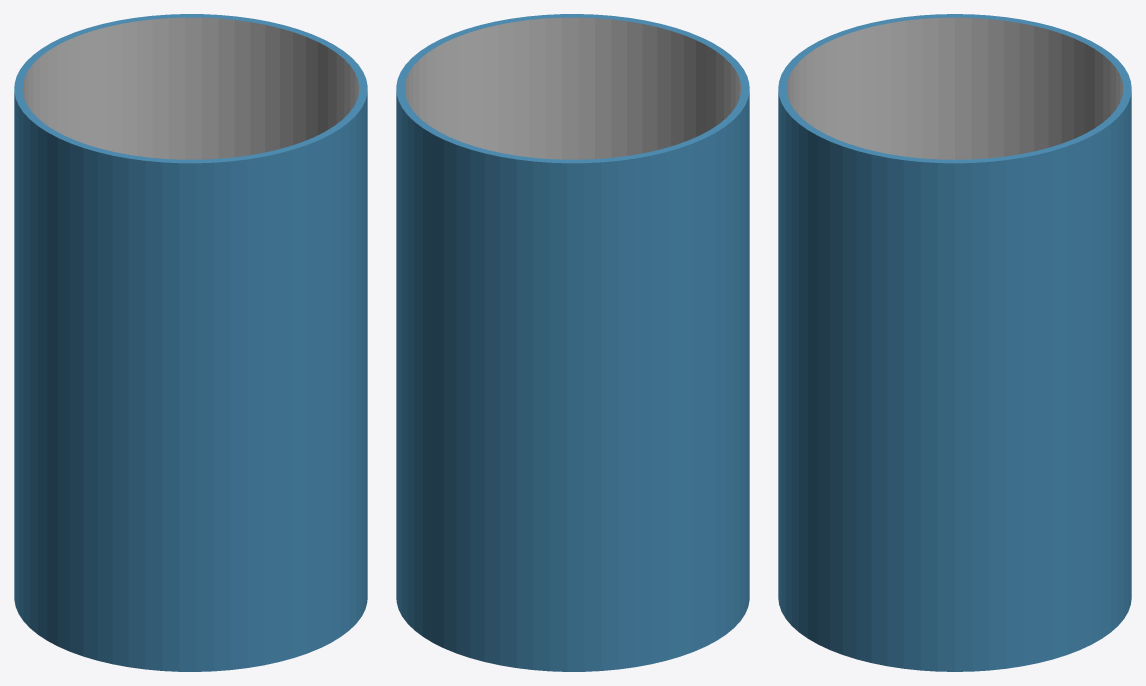
The model's file is mod_lun_bleu.dae.
The picture shows the model from 3 angles, left to right: view 1: azimuth 30°, elevation 25°; view 2: azimuth 150°, elevation 25°; view 3: azimuth 270°, elevation 25°; orthographic projection.
Visible parts, largest first — view 1: ElemBlue_1_0012; view 2: ElemBlue_1_0012; view 3: ElemBlue_1_0012.
Part boxes in pixels (x1,y1,x2,y2): ElemBlue_1_0012: (14, 14, 367, 671); ElemBlue_1_0012: (396, 14, 749, 671); ElemBlue_1_0012: (778, 14, 1131, 671).
Size of the model in its own units: 0.063 by 0.063 by 0.1.
